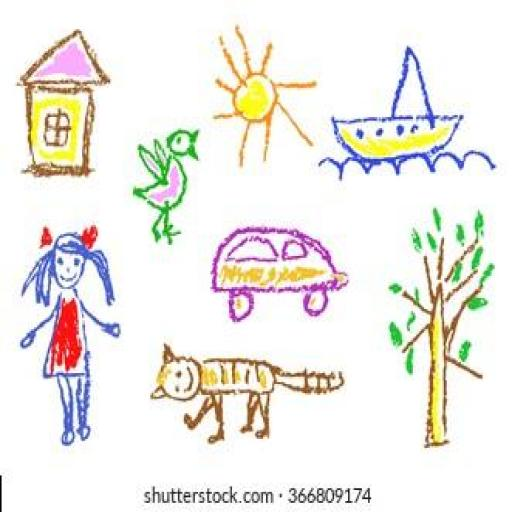person: (10, 222, 126, 452)
